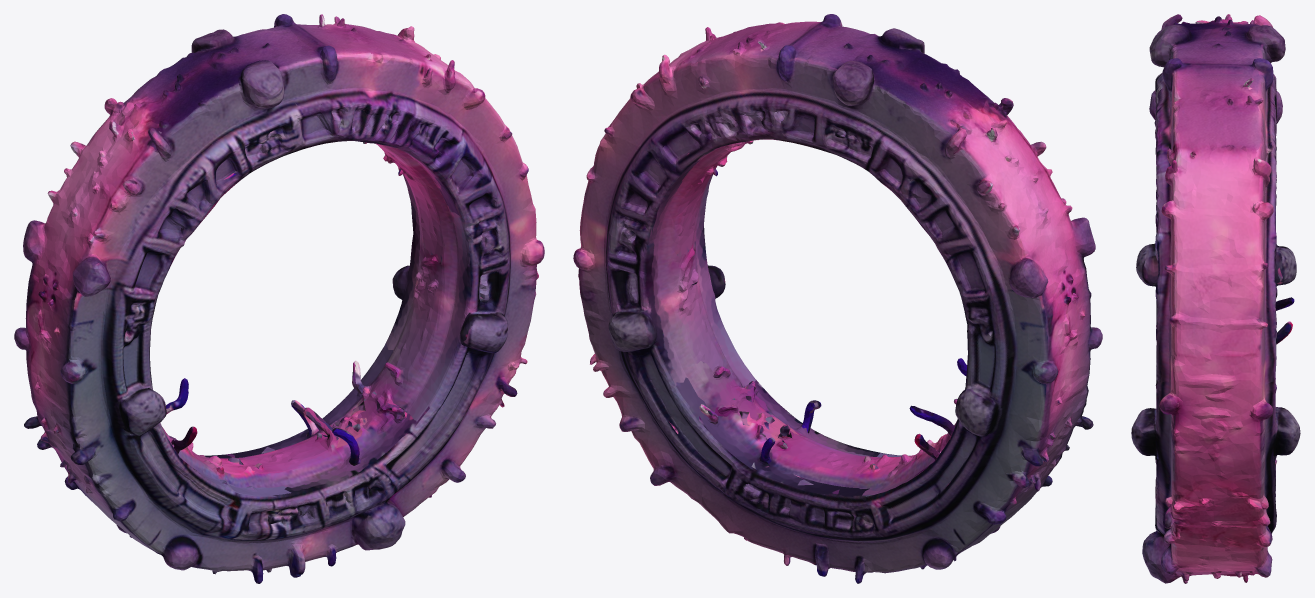
The model's file is shore-ring-generated-2026-04-19T16-09-28-673Z.glb.
3 views of the same model, side by side, from view 1: azimuth 30°, elevation 25°; view 2: azimuth 150°, elevation 25°; view 3: azimuth 270°, elevation 25° (orthographic). The views are drawn at different scales.
Visible parts, largest first — view 1: temp_mesh.ply; view 2: temp_mesh.ply; view 3: temp_mesh.ply.
Boxes of the visible parts, <box> form: temp_mesh.ply: <box>14,14,544,583</box>; temp_mesh.ply: <box>573,14,1102,583</box>; temp_mesh.ply: <box>1131,14,1300,583</box>.
Size of the model in its own units: 1.92 by 1.97 by 0.5969.
1 material, 1 textured.
